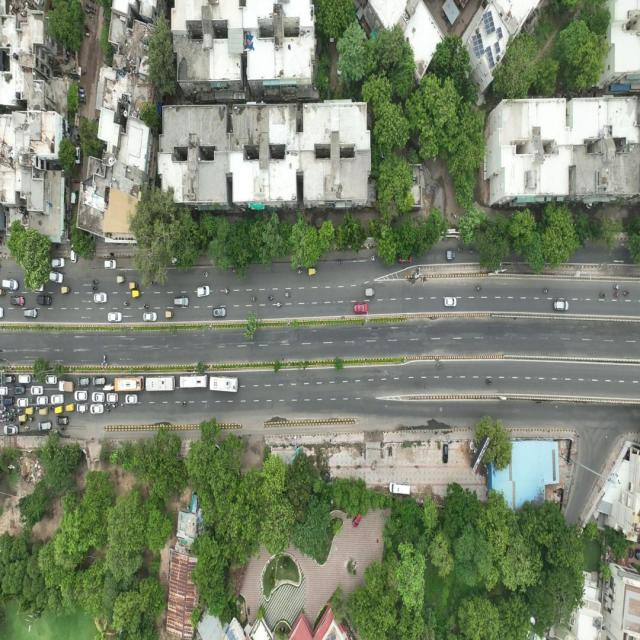3W: (54, 404, 64, 414), (116, 274, 126, 284), (128, 280, 138, 290), (38, 407, 49, 416), (65, 403, 75, 412), (308, 267, 318, 276), (25, 407, 34, 416), (61, 286, 71, 294), (132, 290, 142, 298), (165, 310, 175, 318), (18, 415, 28, 422)
Bus: (208, 374, 239, 395), (113, 375, 144, 394), (145, 375, 176, 392), (178, 375, 208, 390)
Cars: (388, 481, 411, 496), (552, 296, 570, 314), (442, 294, 458, 309), (49, 268, 64, 284), (3, 423, 19, 437), (106, 310, 123, 323), (2, 278, 18, 291), (9, 295, 25, 308), (36, 294, 52, 307), (440, 441, 449, 464), (50, 256, 66, 268), (102, 258, 118, 270), (93, 292, 109, 304), (45, 372, 58, 386), (197, 284, 210, 298), (124, 393, 139, 405), (23, 308, 38, 320), (142, 311, 158, 322), (70, 241, 78, 263), (173, 296, 189, 307), (92, 374, 106, 386), (91, 391, 105, 403), (76, 376, 90, 388), (55, 414, 69, 426), (38, 420, 52, 432), (50, 393, 64, 405), (106, 392, 119, 404), (76, 402, 88, 415), (36, 394, 49, 406), (90, 403, 104, 414), (74, 390, 88, 401), (18, 374, 32, 385), (30, 384, 44, 395), (212, 307, 226, 318), (354, 303, 368, 314), (12, 385, 26, 395), (352, 514, 362, 528), (16, 397, 29, 407), (3, 374, 16, 384), (2, 396, 15, 406)
LCV: (58, 380, 75, 393), (70, 187, 79, 205), (446, 249, 456, 261), (365, 287, 376, 297), (236, 434, 243, 439)
M2W: (474, 282, 484, 294), (612, 290, 622, 301), (483, 377, 493, 386), (620, 289, 630, 298), (540, 286, 550, 295), (598, 291, 607, 300), (79, 97, 89, 104), (612, 284, 621, 291), (29, 396, 36, 404), (9, 416, 16, 424), (82, 24, 90, 31), (370, 254, 377, 262), (79, 93, 88, 99), (83, 7, 90, 14), (202, 271, 209, 278), (457, 245, 464, 252), (91, 279, 99, 285), (91, 286, 99, 292), (123, 300, 131, 306), (78, 84, 86, 90), (59, 426, 68, 431), (181, 401, 188, 407), (79, 88, 86, 94), (85, 1, 91, 8), (268, 294, 274, 301), (276, 302, 283, 308), (469, 248, 476, 254), (112, 403, 118, 409), (24, 425, 30, 431), (10, 407, 16, 413), (90, 9, 96, 15), (224, 288, 230, 294), (251, 296, 257, 302), (28, 417, 35, 422), (2, 406, 9, 411), (143, 304, 150, 309), (81, 70, 88, 75), (335, 260, 343, 264), (104, 402, 110, 407), (49, 405, 55, 410), (19, 421, 25, 426), (17, 408, 23, 413), (7, 411, 13, 416), (1, 413, 7, 418), (91, 6, 97, 11), (285, 292, 291, 297), (297, 269, 303, 274), (105, 408, 112, 412), (120, 402, 124, 408), (34, 406, 40, 410), (4, 418, 10, 422), (0, 408, 4, 414), (84, 32, 90, 36), (247, 607, 250, 615), (14, 414, 19, 418)
